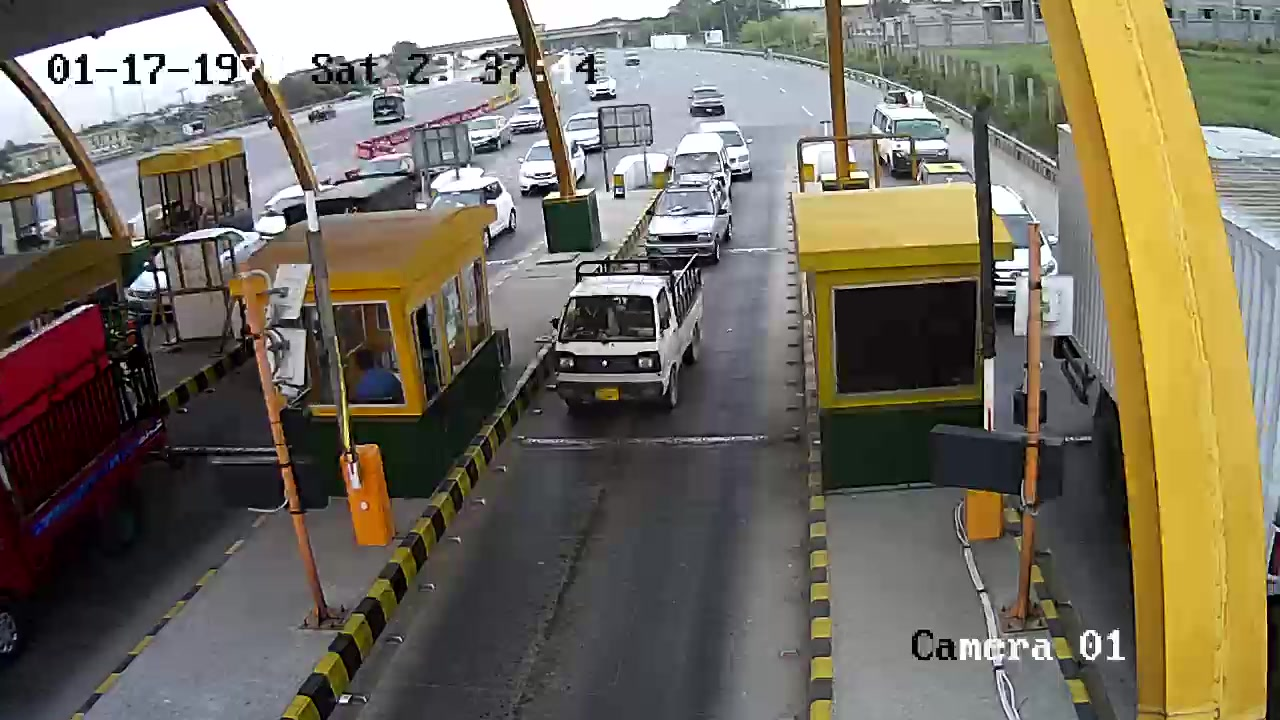F1: (543, 256, 710, 427), (638, 173, 738, 266)
